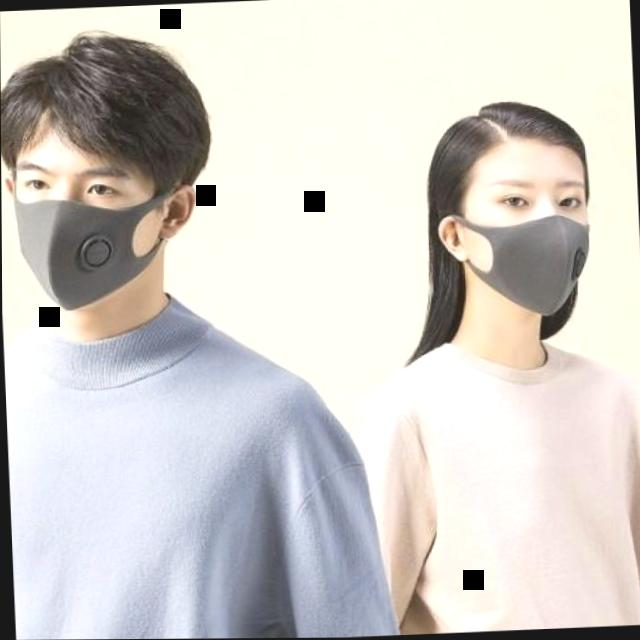Mask: (0, 28, 236, 328), (413, 89, 607, 330)
